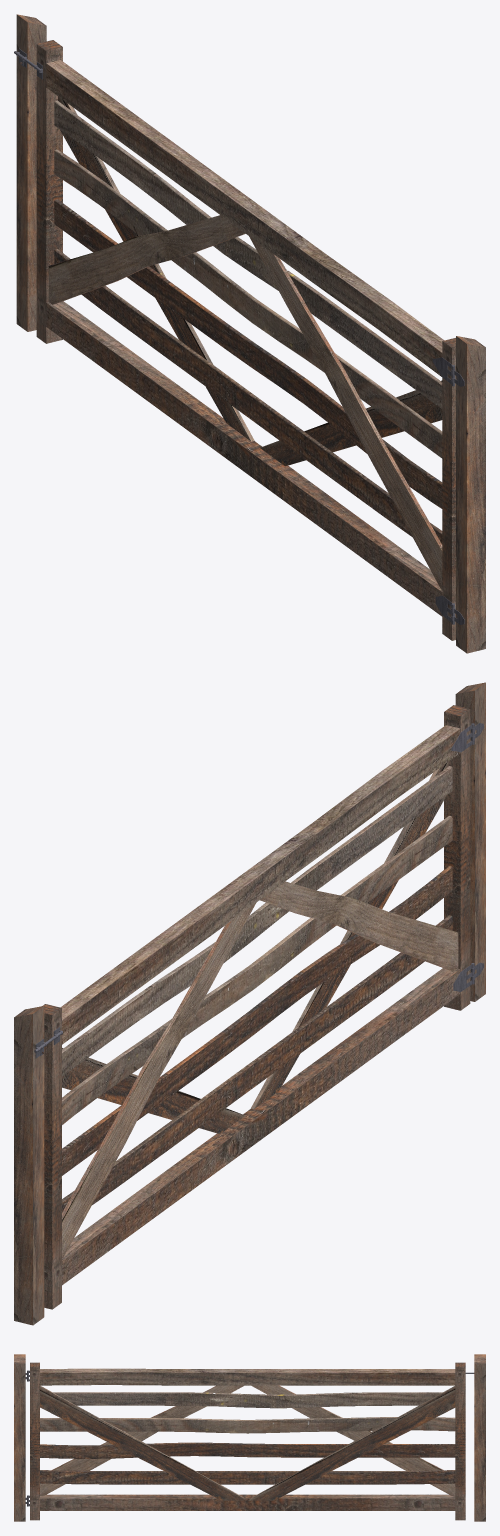
File: fence gate.fbx
The picture shows the model from 3 angles, top to bottom: view 1: azimuth 30°, elevation 25°; view 2: azimuth 150°, elevation 25°; view 3: azimuth 270°, elevation 25°; orthographic projection. The views are drawn at different scales.
Parts seen in each view (by area): view 1: fence gate; view 2: fence gate; view 3: fence gate.
Boxes of the visible parts, box(x1,y1,x2,y2) form: fence gate: box(14, 14, 485, 653); fence gate: box(14, 682, 485, 1325); fence gate: box(14, 1354, 485, 1521).
Bounding box in the file's own units: 10.03 × 131 × 346.
2 materials, 2 textured.
